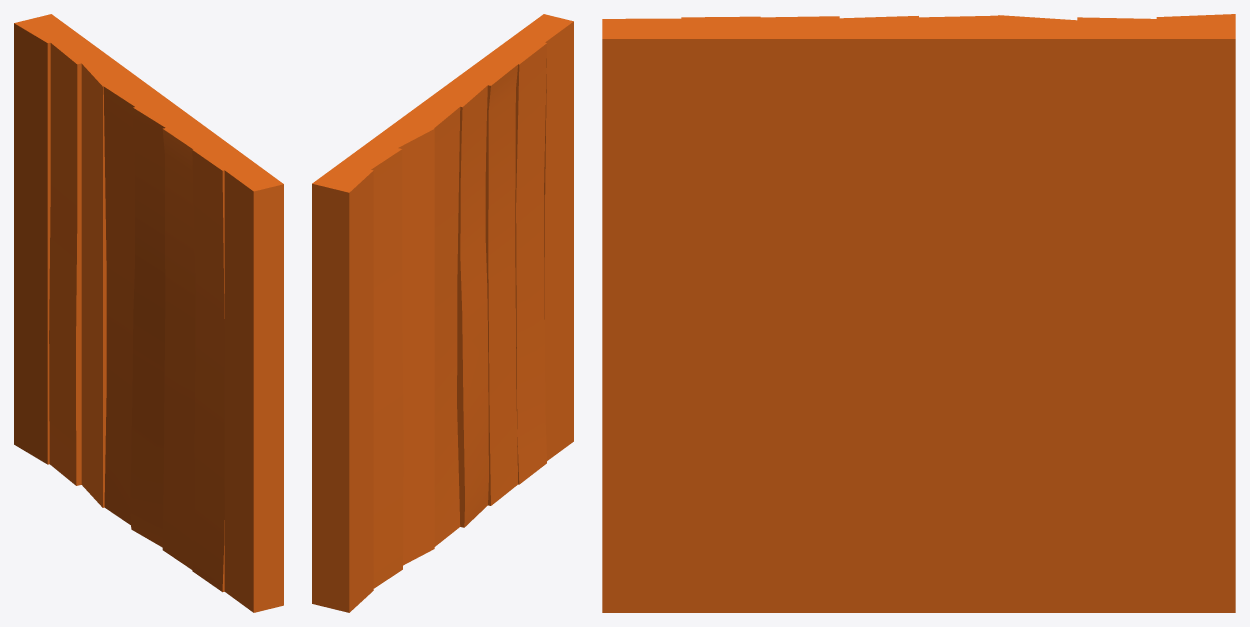
File: MurFerme.fbx
3 views of the same model, side by side, from view 1: azimuth 30°, elevation 25°; view 2: azimuth 150°, elevation 25°; view 3: azimuth 270°, elevation 25° (orthographic). The views are drawn at different scales.
Parts seen in each view (by area): view 1: MurFerme; view 2: MurFerme; view 3: MurFerme.
Boxes of the visible parts, x1,y1,x2,y2 form: MurFerme: (14,14,283,612); MurFerme: (312,14,573,612); MurFerme: (602,14,1235,612).
Bounding box in the file's own units: 55.85 × 600 × 600.
